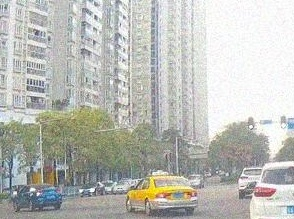L_light: (155, 192, 170, 198), (36, 189, 43, 193)
R_light: (187, 191, 198, 198), (57, 189, 60, 192)
T_light: (169, 179, 175, 180), (42, 185, 46, 186)
day-left: (152, 176, 198, 216), (31, 184, 62, 211)
